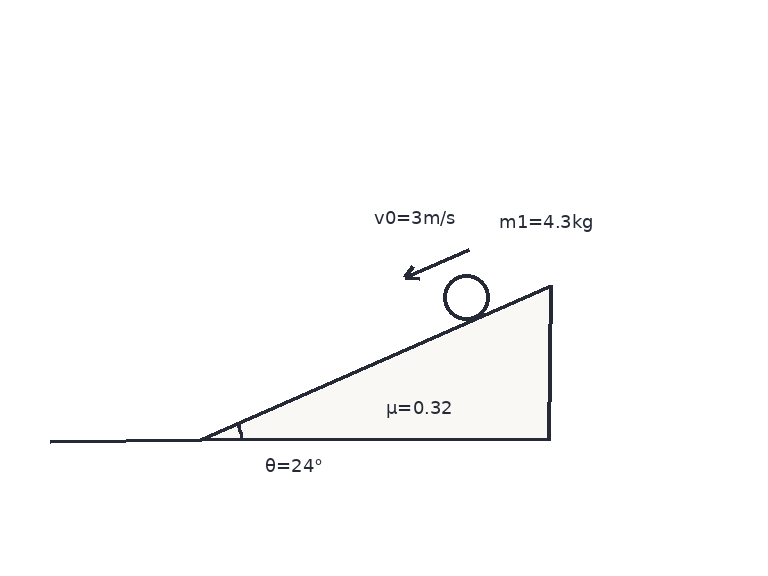ball: (441, 272, 491, 322)
ramp: (199, 283, 550, 442)
